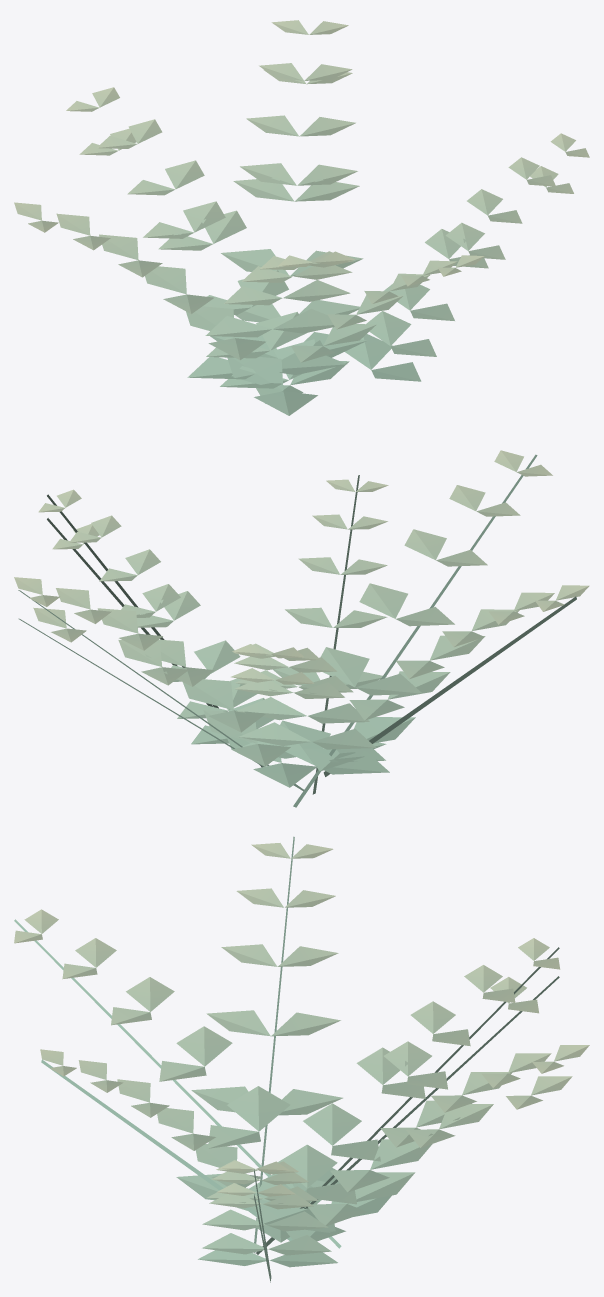
The model's file is bracken.glb.
3 renders of one model, top to bottom at view 1: azimuth 30°, elevation 25°; view 2: azimuth 150°, elevation 25°; view 3: azimuth 270°, elevation 25°, orthographic. The views are drawn at different scales.
Parts seen in each view (by area): view 1: near, far; view 2: near, far; view 3: near, far.
Boxes of the visible parts, <box> form: near: <box>14,20,589,415</box>; far: <box>79,69,573,358</box>; near: <box>14,450,589,807</box>; far: <box>18,518,375,790</box>; near: <box>14,836,589,1278</box>; far: <box>202,976,572,1282</box>.
Size of the model in its own units: 1.85 by 0.8484 by 1.57.
